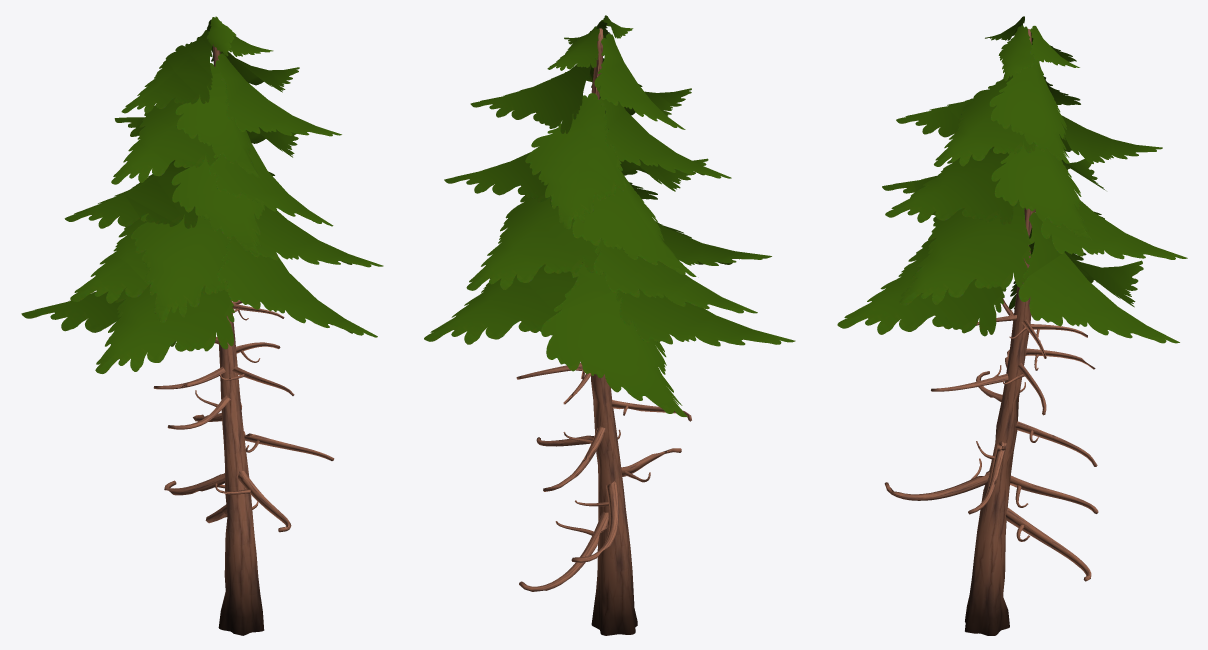
File: pine3.glb
3 views of the same model, side by side, from view 1: azimuth 30°, elevation 25°; view 2: azimuth 150°, elevation 25°; view 3: azimuth 270°, elevation 25° (orthographic). The views are drawn at different scales.
Visible parts, largest first — view 1: Pine_3; view 2: Pine_3; view 3: Pine_3.
Part boxes in pixels (x1,y1,x2,y2): Pine_3: (21,16,383,635); Pine_3: (424,15,795,635); Pine_3: (837,16,1187,635).
Bounding box in the file's own units: 3.61 × 7.39 × 4.
2 materials, 2 textured.
